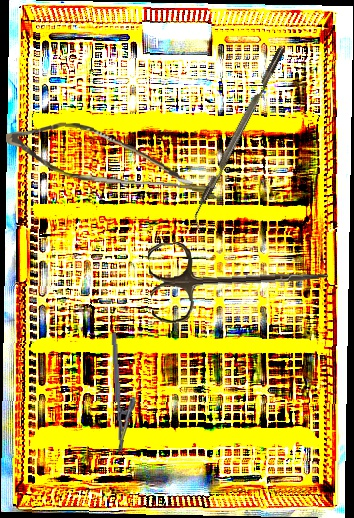Chopper: (184, 45, 295, 233)
Iris Scissors: (147, 231, 331, 325)
Micro Scissor: (2, 118, 227, 201)
Needle Holder: (110, 331, 140, 453)
